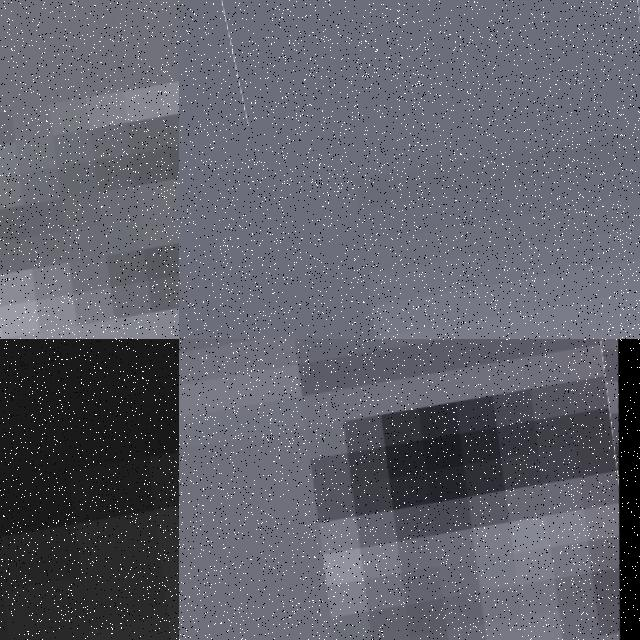drone: (179, 339, 640, 640), (232, 0, 640, 339), (0, 0, 179, 339), (0, 339, 179, 640)
